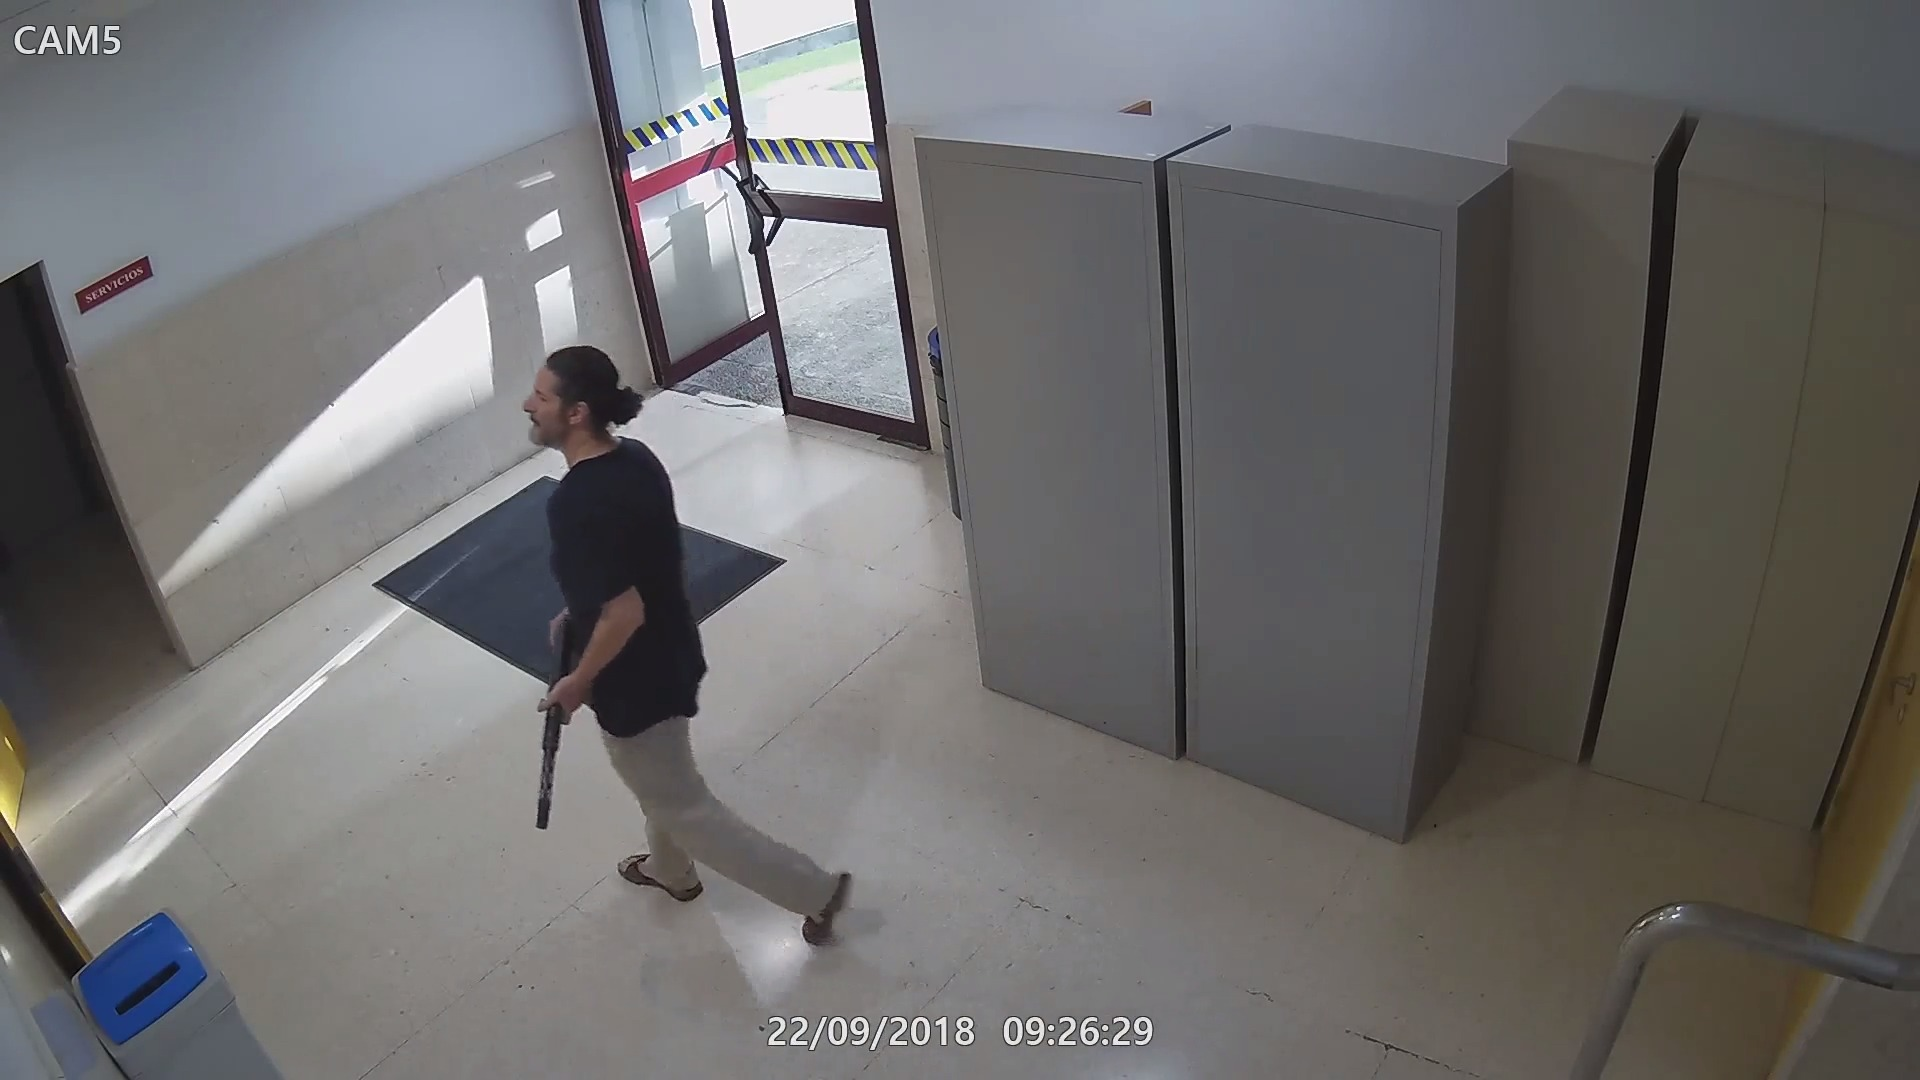Short_rifle: (520, 605, 578, 827)
